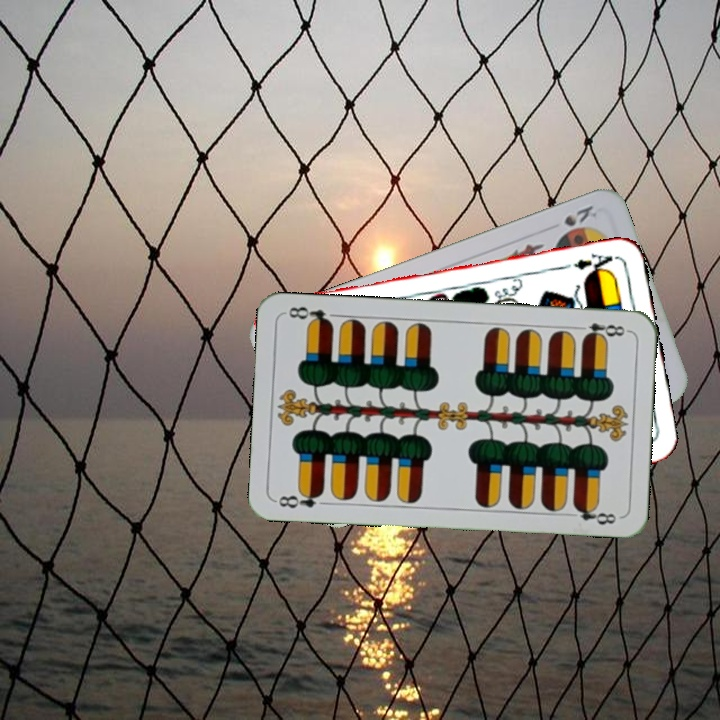E8: (572, 319, 631, 342), (273, 486, 326, 511)
EA: (570, 249, 620, 277)
SK: (560, 201, 600, 229)
